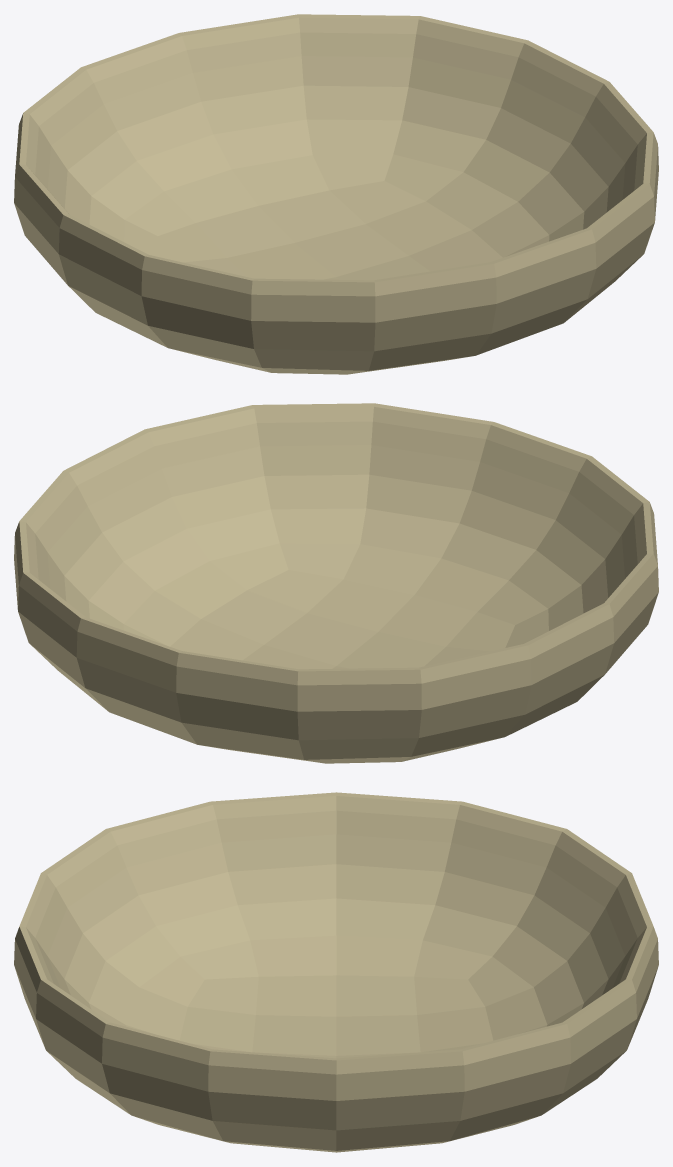
Rendered from Mangkuk.fbx.
3 views of the same model, one above another, from view 1: azimuth 30°, elevation 25°; view 2: azimuth 150°, elevation 25°; view 3: azimuth 270°, elevation 25° (orthographic).
Parts seen in each view (by area): view 1: Cube.001; view 2: Cube.001; view 3: Cube.001.
Boxes of the visible parts, x1,y1,x2,y2 form: Cube.001: (14, 14, 658, 374); Cube.001: (14, 403, 658, 763); Cube.001: (14, 792, 658, 1152).
Bounding box in the file's own units: 181 × 48.96 × 181.
